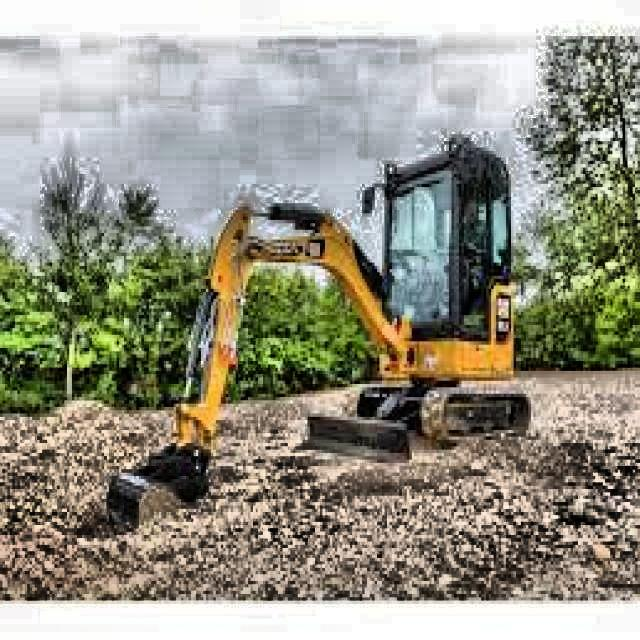bull_dozer/loader/grader: (100, 126, 536, 542)
person: (461, 197, 489, 260)
